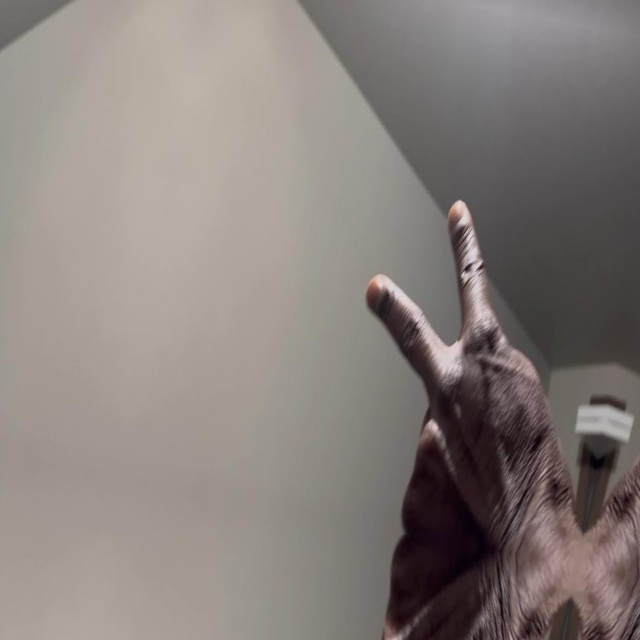Scissors: (259, 518, 578, 640)
